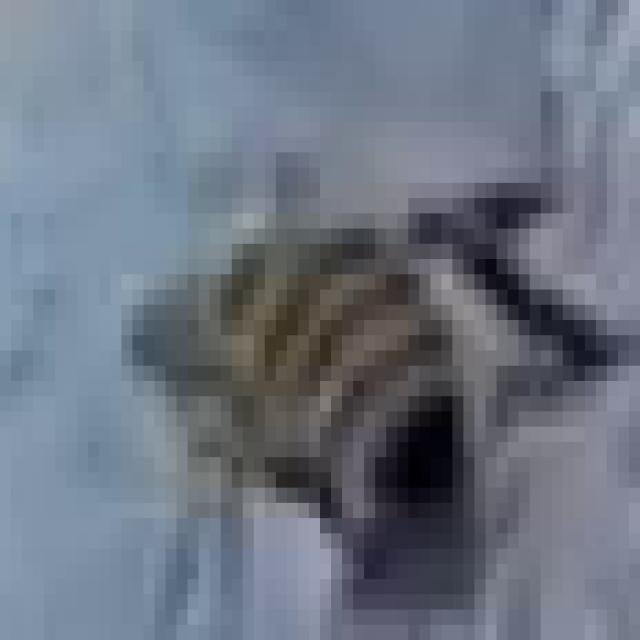honeybee: (109, 177, 516, 585)
